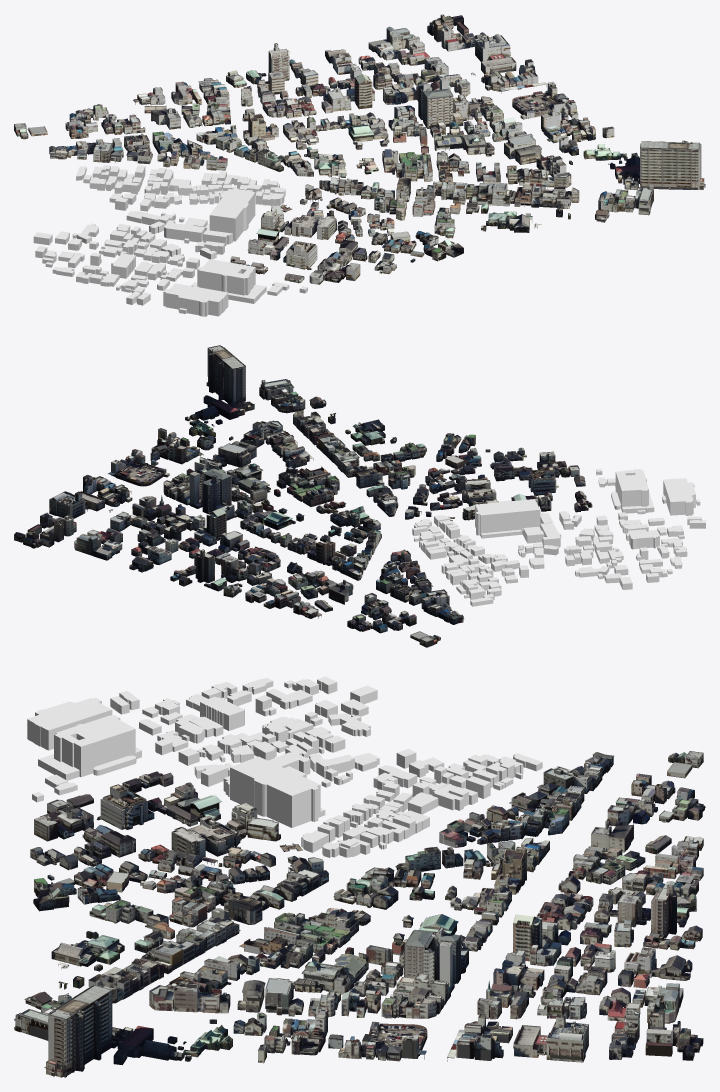
The model's file is 2023-lod3-station-5-0-packed.glb.
3 renders of one model, top to bottom at view 1: azimuth 30°, elevation 25°; view 2: azimuth 150°, elevation 25°; view 3: azimuth 270°, elevation 25°, orthographic. The views are drawn at different scales.
Bounding box in the file's own units: 631 × 46.55 × 466.
9 materials, 8 textured.
